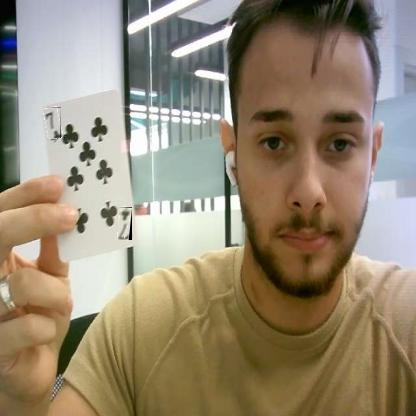7C: (45, 107, 61, 138), (118, 207, 132, 240)
